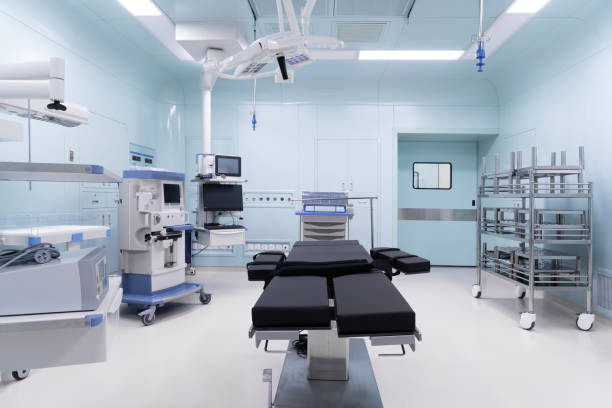computer: (201, 182, 244, 213)
keyboard: (203, 222, 245, 231)
medical_drawer: (297, 193, 351, 243)
operating_bed: (246, 239, 430, 408)
surgical_light: (234, 57, 269, 78), (286, 48, 314, 68)
utility_cart: (476, 146, 595, 331)
ventilator: (117, 167, 210, 325)
